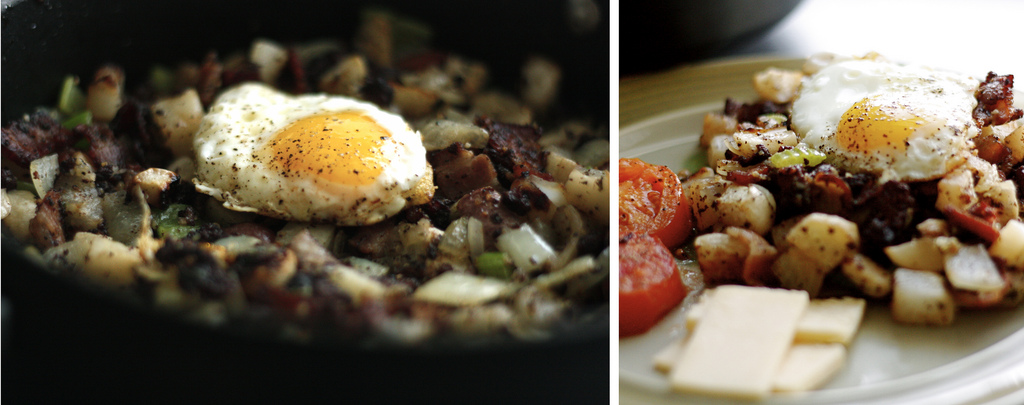boiled potatoes: (703, 193, 1019, 318)
fried egg: (198, 94, 433, 210), (800, 65, 961, 164)
